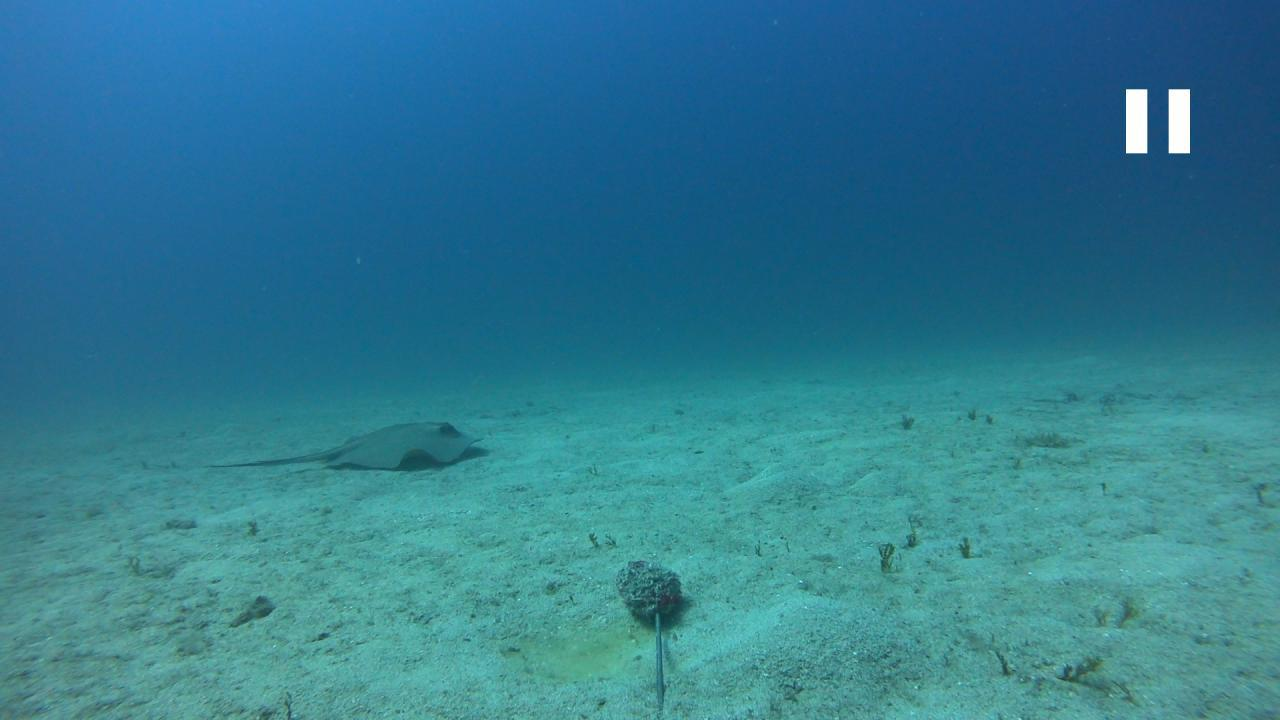dasyatis: (202, 420, 486, 468)
